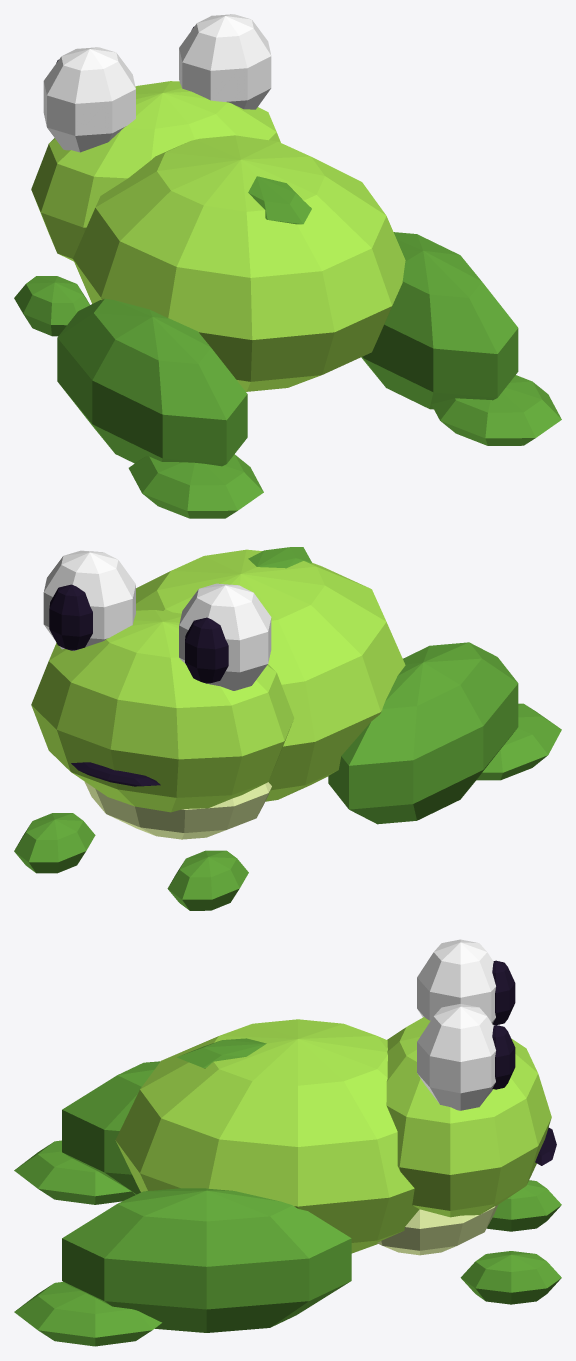
Rendered from hop_frog.glb.
3 renders of one model, top to bottom at view 1: azimuth 30°, elevation 25°; view 2: azimuth 150°, elevation 25°; view 3: azimuth 270°, elevation 25°, orthographic. The views are drawn at different scales.
Parts seen in each view (by area): view 1: hop_frog; view 2: hop_frog; view 3: hop_frog.
Boxes of the visible parts, bbox=[...] form: hop_frog: bbox=[14, 14, 561, 518]; hop_frog: bbox=[14, 547, 561, 910]; hop_frog: bbox=[14, 939, 561, 1346].
Size of the model in its own units: 0.9 by 0.63 by 1.08.
